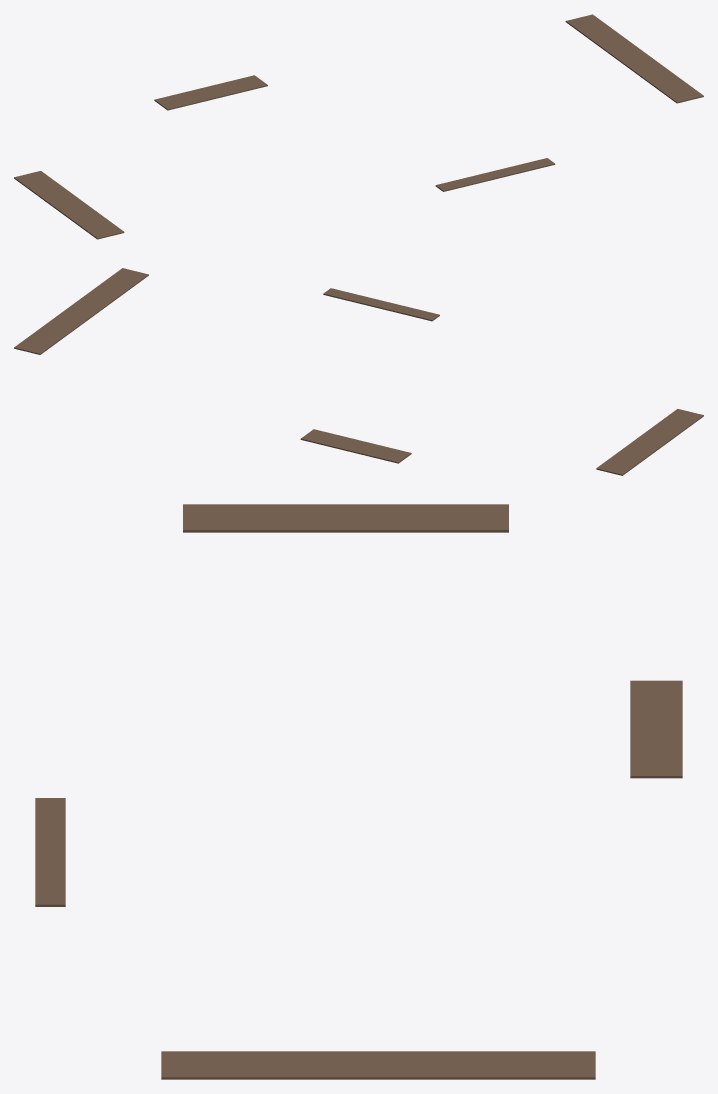
Rendered from yard_beds.glb.
The picture shows the model from 3 angles, top to bottom: view 1: azimuth 30°, elevation 25°; view 2: azimuth 150°, elevation 25°; view 3: azimuth 270°, elevation 25°; orthographic projection. The views are drawn at different scales.
Visible parts, largest first — view 1: bed.pool, bed.west, bed.rear, bed.front; view 2: bed.pool, bed.west, bed.rear, bed.front; view 3: bed.pool, bed.west, bed.rear, bed.front.
Boxes of the visible parts, x1=… form: bed.pool: x1=565, y1=14, x2=703, y2=103; bed.west: x1=14, y1=171, x2=124, y2=239; bed.rear: x1=154, y1=75, x2=267, y2=110; bed.front: x1=435, y1=158, x2=555, y2=191; bed.pool: x1=14, y1=268, x2=148, y2=354; bed.west: x1=596, y1=409, x2=703, y2=475; bed.rear: x1=300, y1=429, x2=411, y2=463; bed.front: x1=323, y1=288, x2=439, y2=321; bed.pool: x1=161, y1=1051, x2=595, y2=1079; bed.west: x1=183, y1=504, x2=508, y2=532; bed.rear: x1=630, y1=680, x2=682, y2=778; bed.front: x1=35, y1=798, x2=65, y2=906.
Size of the model in its own units: 31.2 by 0.06 by 14.9.
